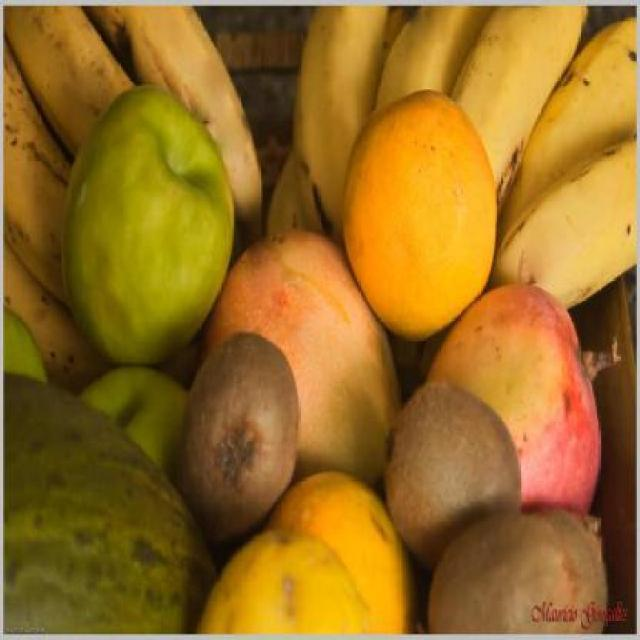Mango: (202, 228, 400, 477), (346, 90, 506, 339)
